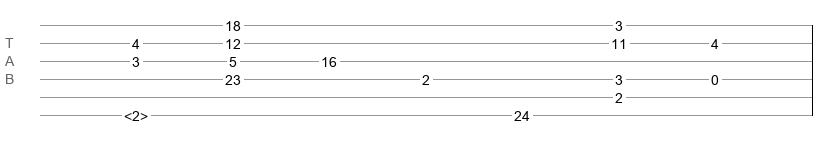0: (711, 72, 719, 82)
11: (611, 36, 627, 46)
12: (225, 36, 241, 46)
16: (321, 54, 337, 64)
18: (225, 18, 241, 28)
2: (422, 72, 430, 82), (615, 90, 623, 100)
23: (225, 72, 241, 82)
24: (514, 108, 530, 118)
3: (132, 54, 140, 64), (615, 72, 623, 82), (615, 18, 623, 28)
4: (132, 36, 140, 46), (711, 36, 719, 46)
5: (229, 54, 237, 64)
harmonic: (124, 108, 148, 118)
